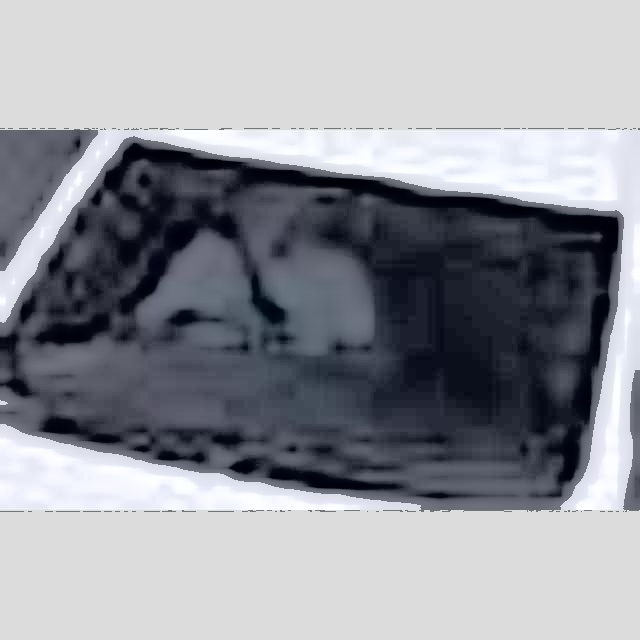pakai: (130, 204, 399, 408)
